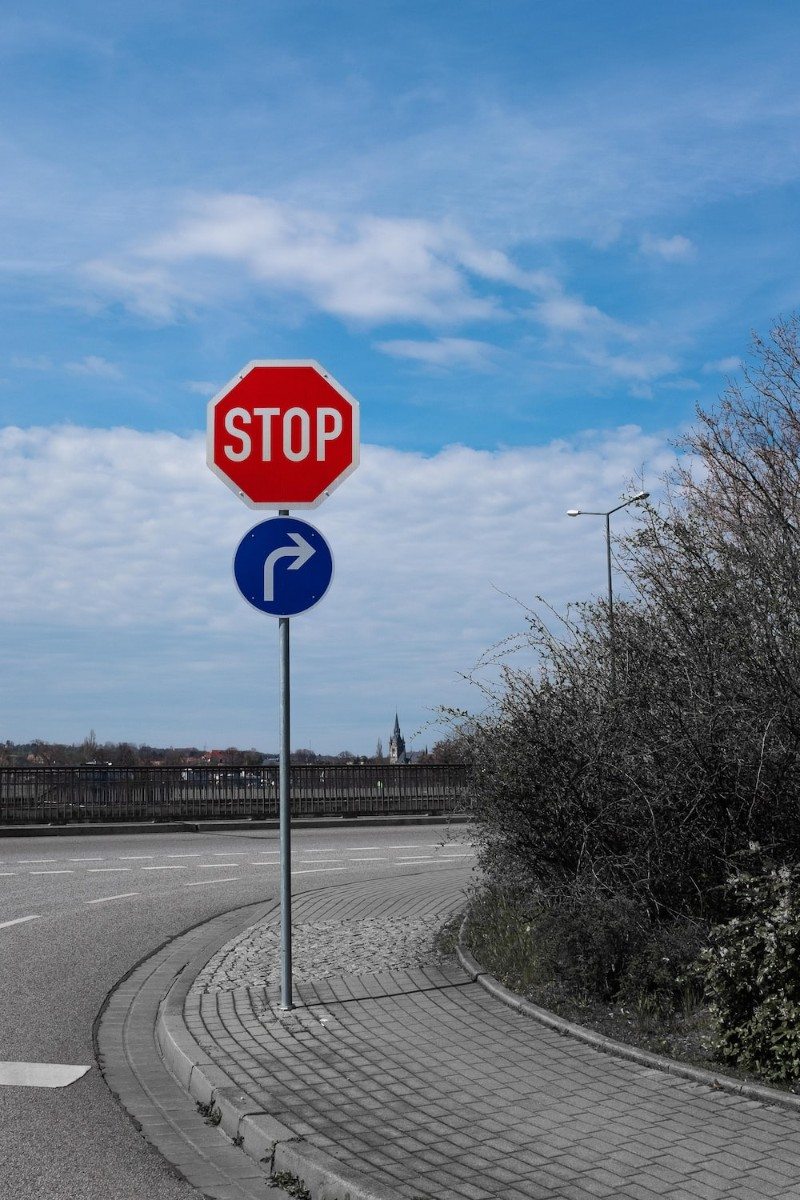stop: (205, 353, 361, 518)
